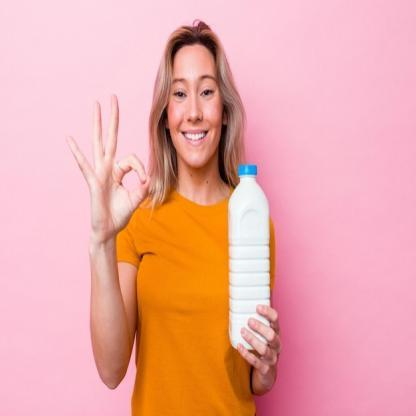ok: (62, 90, 154, 252)
